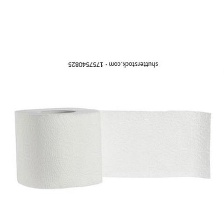tissue: (8, 101, 218, 196)
